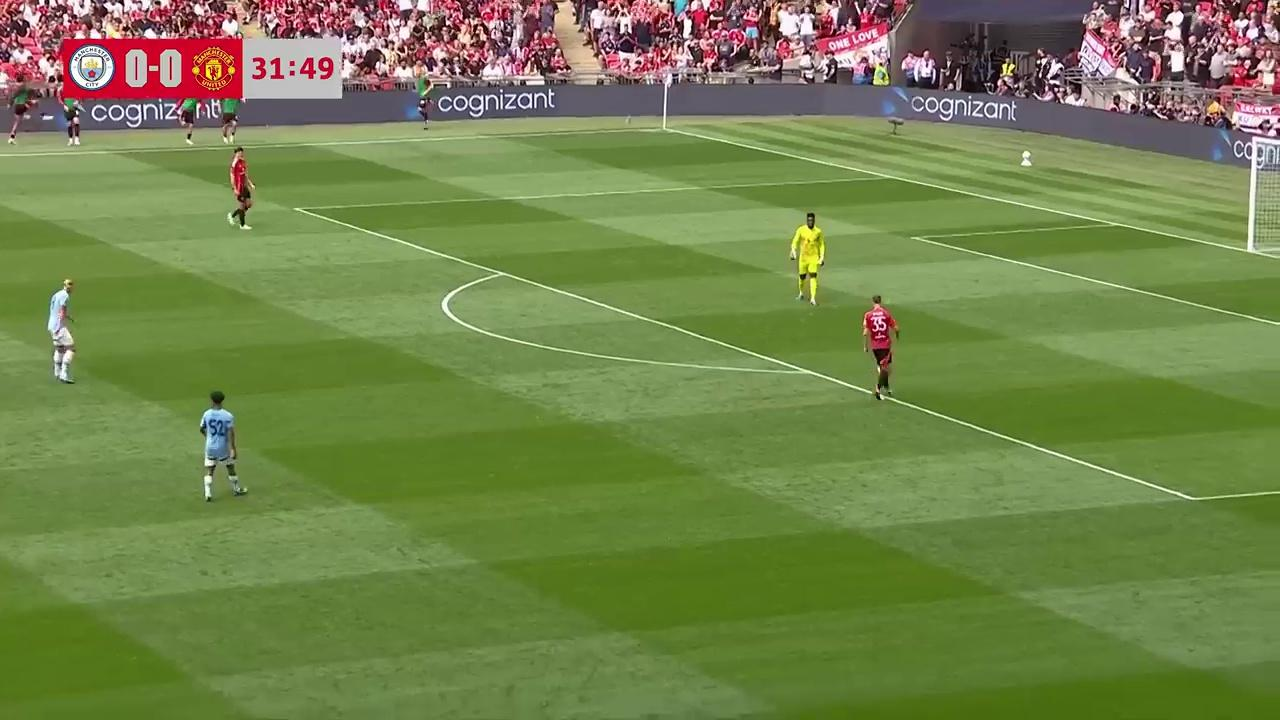ball: (61, 369, 70, 383)
player: (199, 391, 247, 502), (861, 294, 899, 400), (790, 211, 825, 307), (46, 277, 76, 383), (229, 146, 253, 228)
